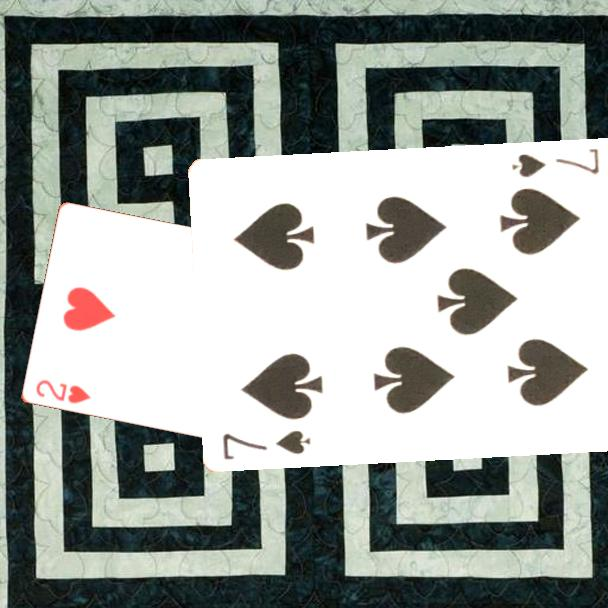h02: (32, 376, 93, 407)
s07: (219, 426, 314, 463), (509, 145, 602, 180)
